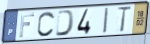4: (76, 8, 92, 36)
C: (36, 11, 57, 38)
D: (55, 9, 76, 38)
F: (19, 12, 36, 39)
I: (102, 6, 110, 35)
T: (116, 5, 133, 34)
